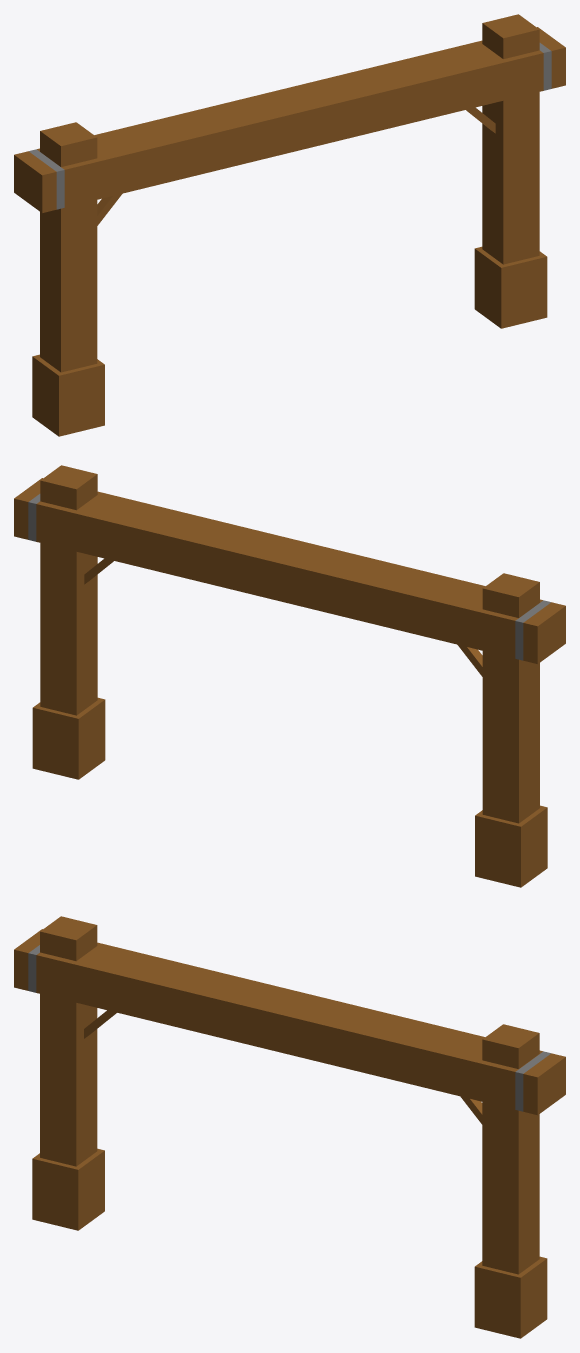
File: Arco de madeira longa.fbx
The picture shows the model from 3 angles, top to bottom: view 1: azimuth 30°, elevation 25°; view 2: azimuth 150°, elevation 25°; view 3: azimuth 330°, elevation 25°; orthographic projection.
Parts seen in each view (by area): view 1: Cube.024; view 2: Cube.024; view 3: Cube.024.
Part boxes in pixels (x1=…): Cube.024: x1=14, y1=14, x2=565, y2=436; Cube.024: x1=14, y1=465, x2=565, y2=887; Cube.024: x1=14, y1=916, x2=565, y2=1338.
Size of the model in its own units: 1180 by 618 by 110.
